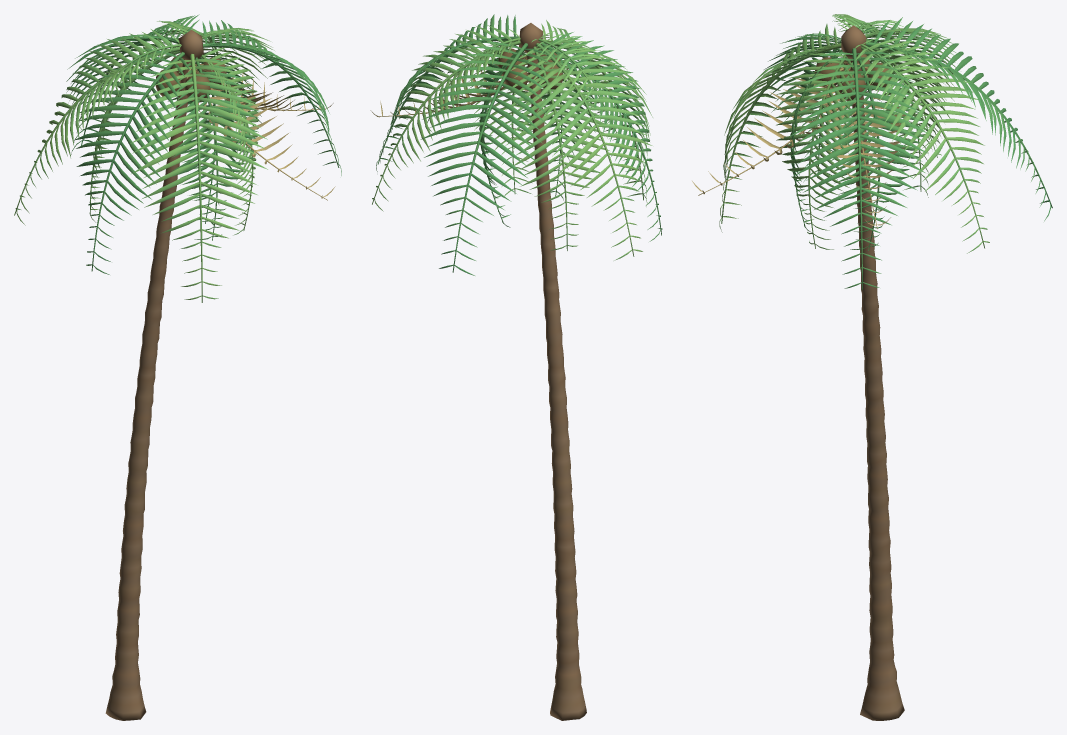
Rendered from palm_tall.7afc42cc.glb.
3 renders of one model, left to right at view 1: azimuth 30°, elevation 25°; view 2: azimuth 150°, elevation 25°; view 3: azimuth 270°, elevation 25°, orthographic. The views are drawn at different scales.
Parts seen in each view (by area): view 1: palm_tall; view 2: palm_tall; view 3: palm_tall.
Part boxes in pixels (x1=…): palm_tall: x1=14, y1=14, x2=341, y2=720; palm_tall: x1=370, y1=14, x2=662, y2=720; palm_tall: x1=692, y1=14, x2=1052, y2=720.
Bounding box in the file's own units: 6.31 × 13.95 × 6.41.
